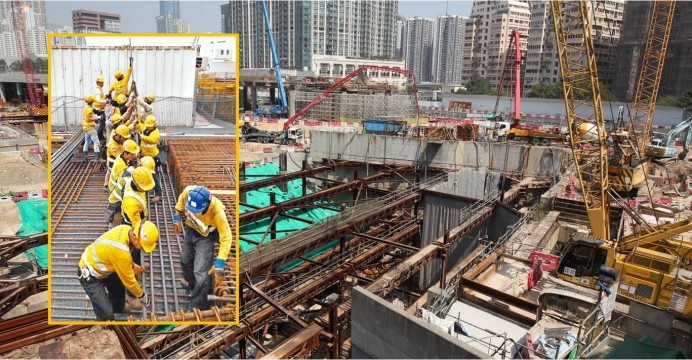blue: (186, 186, 211, 214)
yellow: (131, 219, 159, 253), (131, 166, 154, 193), (123, 140, 138, 159), (115, 125, 129, 141), (145, 115, 157, 131), (111, 114, 124, 128), (116, 94, 128, 106), (143, 93, 155, 105), (85, 94, 95, 106), (114, 70, 124, 81), (95, 76, 104, 88)
